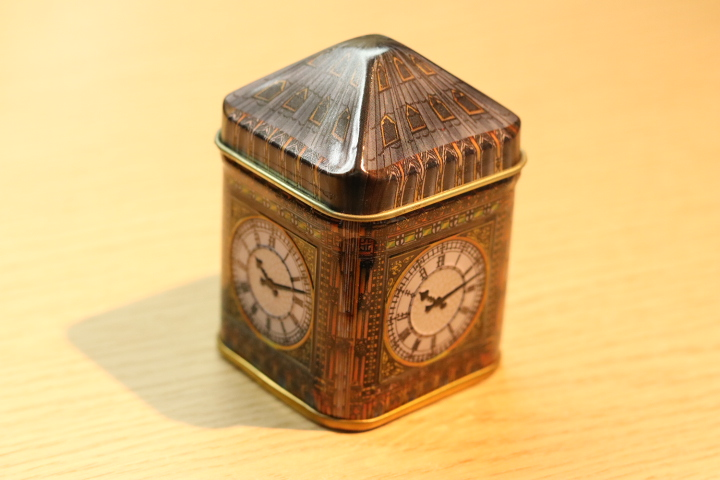Big Ben: (203, 18, 545, 449)
